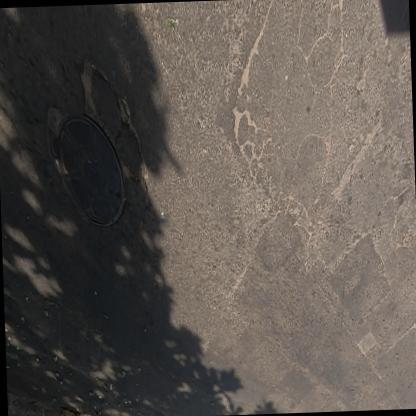manholes: (40, 86, 130, 238)
